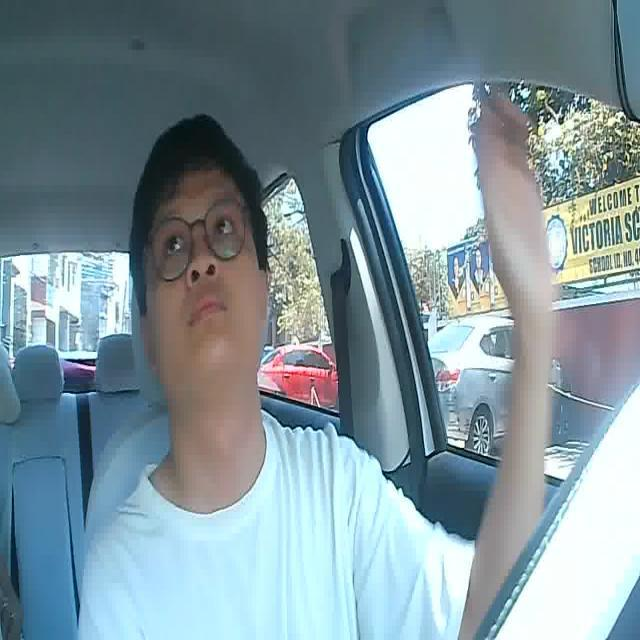Eye-Open: (163, 234, 185, 258), (215, 216, 232, 235)
Inattentive: (107, 110, 292, 395)
Normal: (188, 294, 227, 330)
